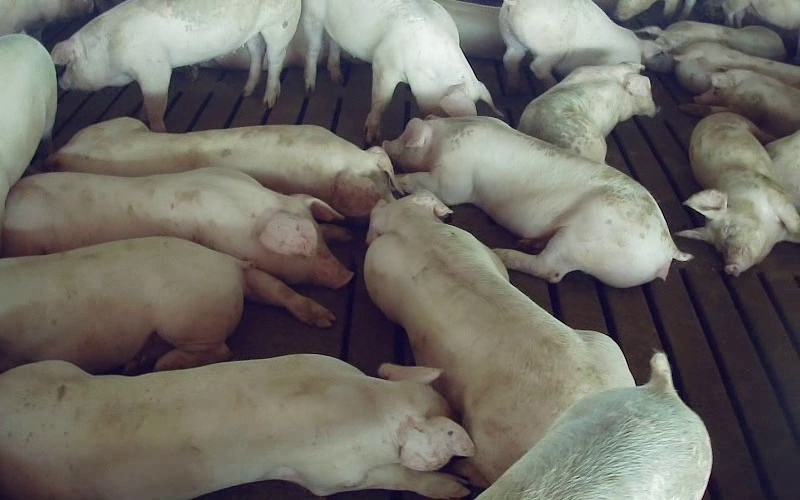pig: (364, 191, 633, 484), (0, 354, 473, 497), (3, 167, 352, 326), (384, 118, 690, 287), (50, 117, 398, 216), (477, 353, 710, 499), (0, 237, 244, 372), (52, 0, 300, 131), (303, 0, 501, 142), (678, 112, 799, 275), (518, 63, 656, 162), (499, 0, 643, 90), (680, 69, 799, 137), (636, 21, 785, 71), (674, 43, 799, 93)
